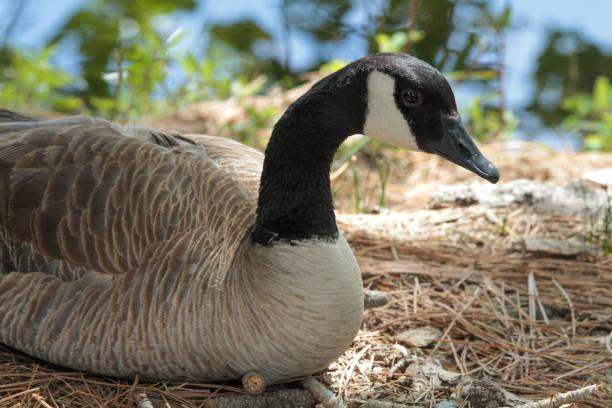Canadian-Goose: (0, 49, 501, 377)
